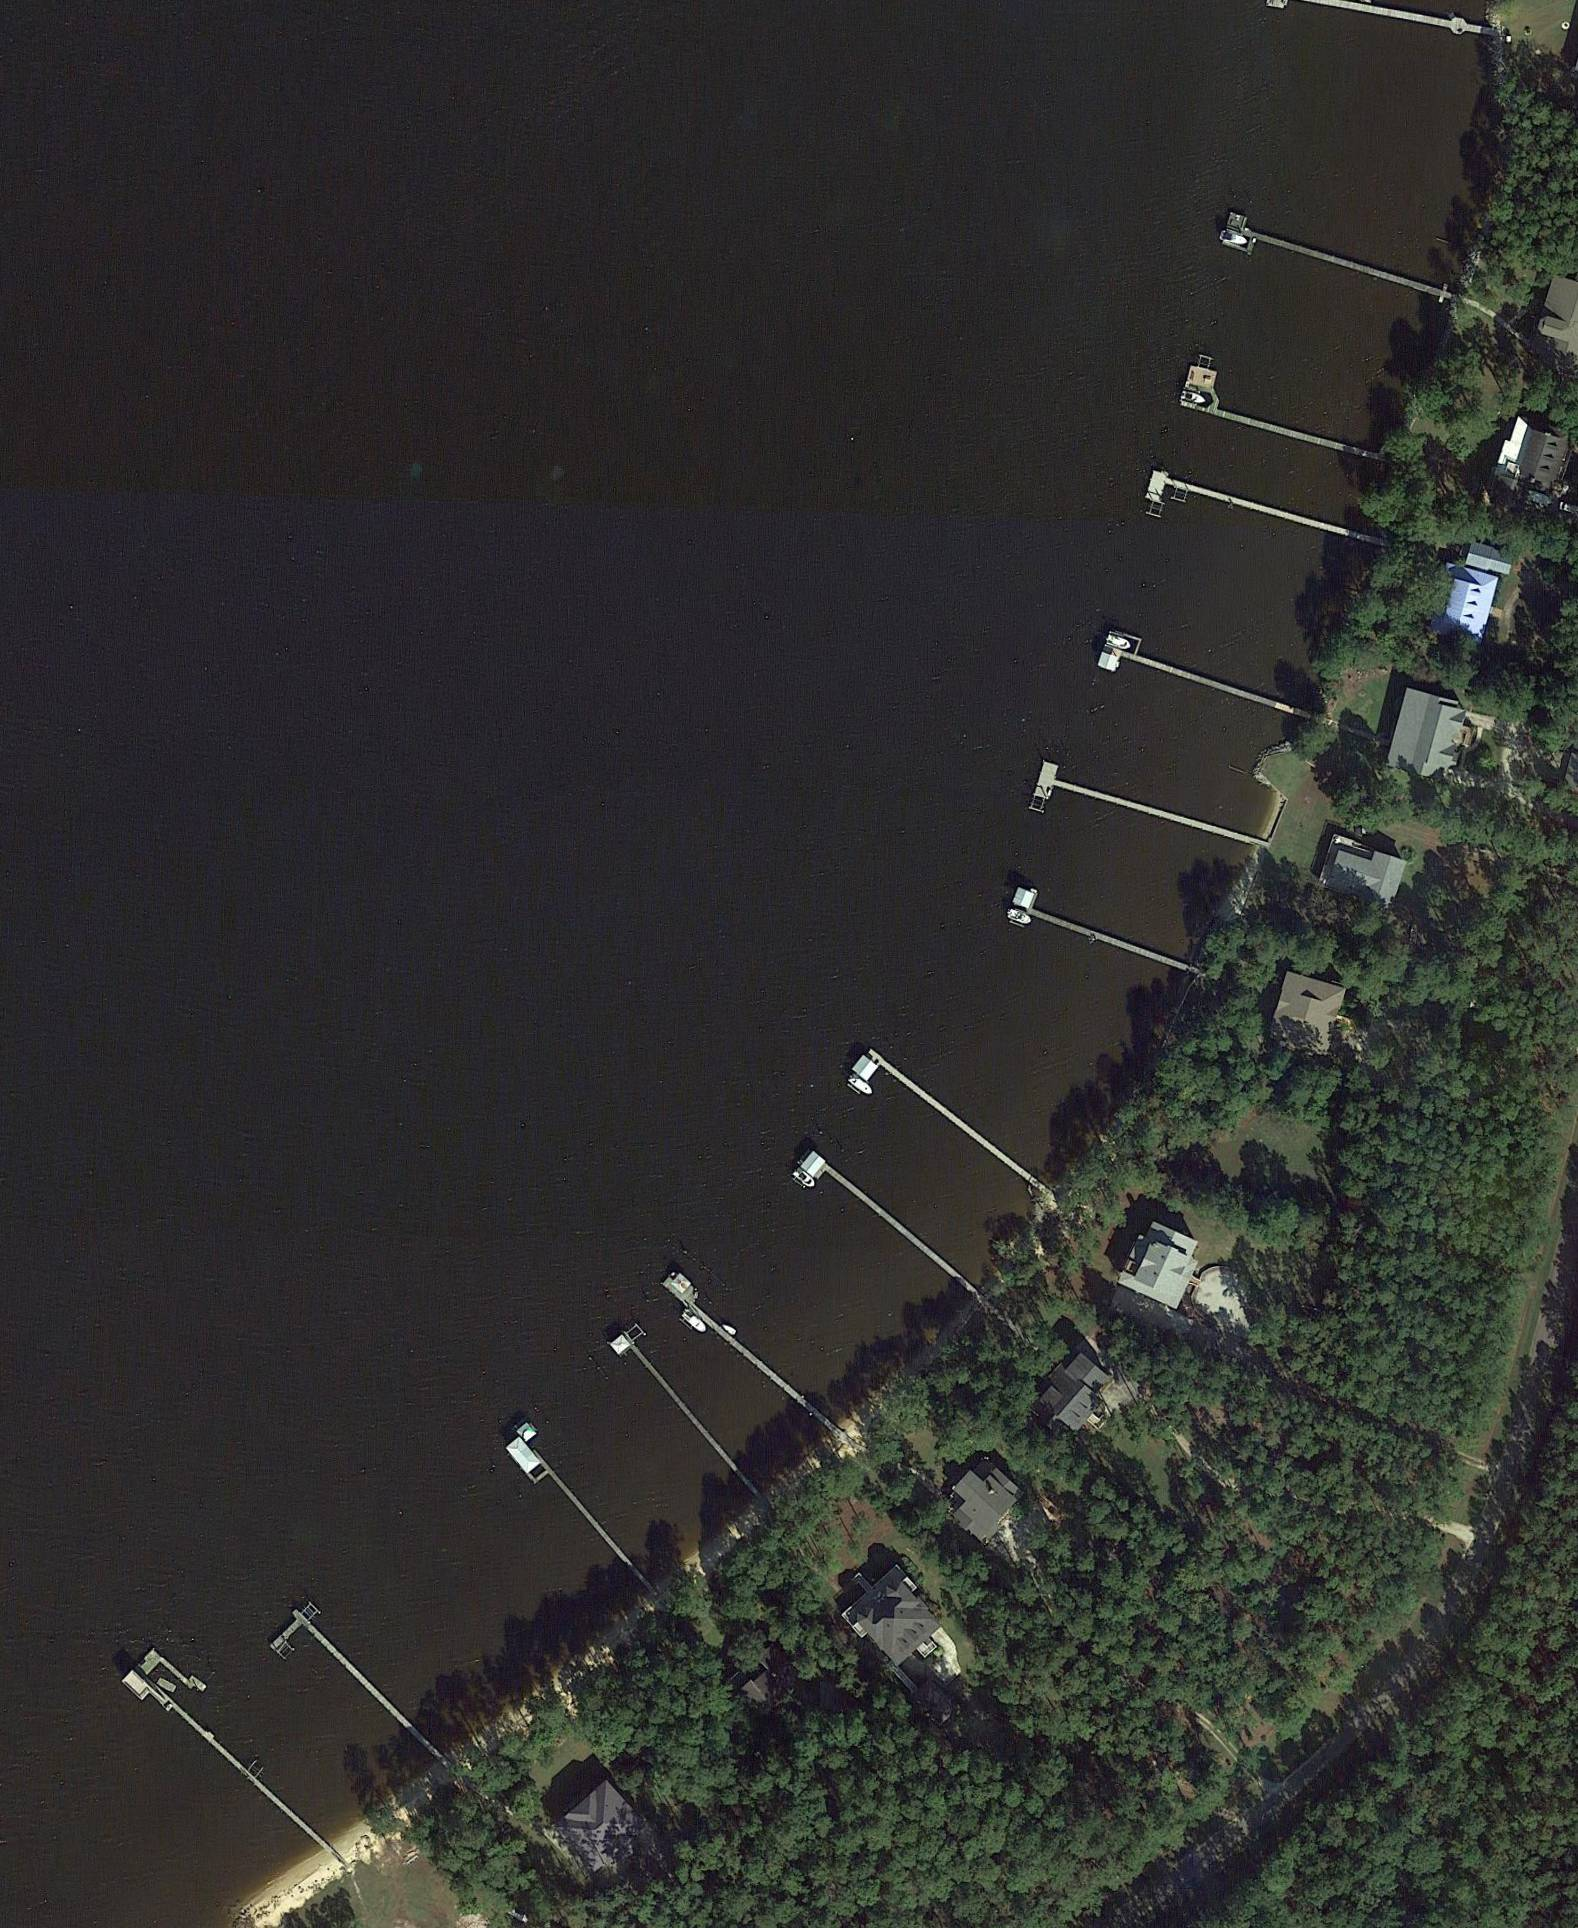harbor: (123, 1646, 341, 1858), (261, 1597, 449, 1785), (796, 1148, 980, 1311), (609, 1323, 766, 1502), (852, 1046, 1033, 1201), (662, 1270, 836, 1427), (505, 1435, 650, 1603), (1097, 628, 1314, 737), (1221, 211, 1451, 312), (1035, 761, 1262, 860), (1145, 471, 1370, 560), (1181, 364, 1383, 461), (1006, 882, 1194, 983)
